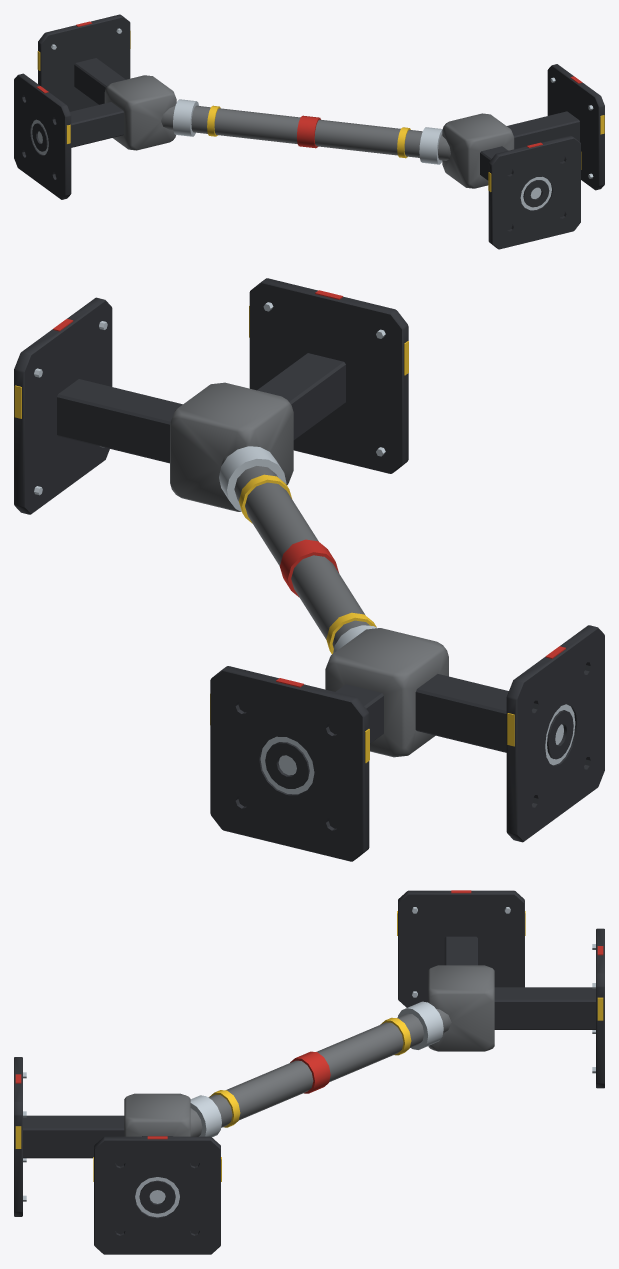
Rendered from R4C_ROD_DIAG_2D_SHORT.glb.
3 renders of one model, top to bottom at view 1: azimuth 30°, elevation 25°; view 2: azimuth 150°, elevation 25°; view 3: azimuth 270°, elevation 25°, orthographic. The views are drawn at different scales.
Visible parts, largest first — view 1: R4C_ROD_DIAG_2D_SHORT; view 2: R4C_ROD_DIAG_2D_SHORT; view 3: R4C_ROD_DIAG_2D_SHORT.
Boxes of the visible parts, <box> form: R4C_ROD_DIAG_2D_SHORT: <box>14,14,604,249</box>; R4C_ROD_DIAG_2D_SHORT: <box>14,278,604,861</box>; R4C_ROD_DIAG_2D_SHORT: <box>14,890,604,1254</box>.
Bounding box in the file's own units: 1.07 × 0.2316 × 1.07.
